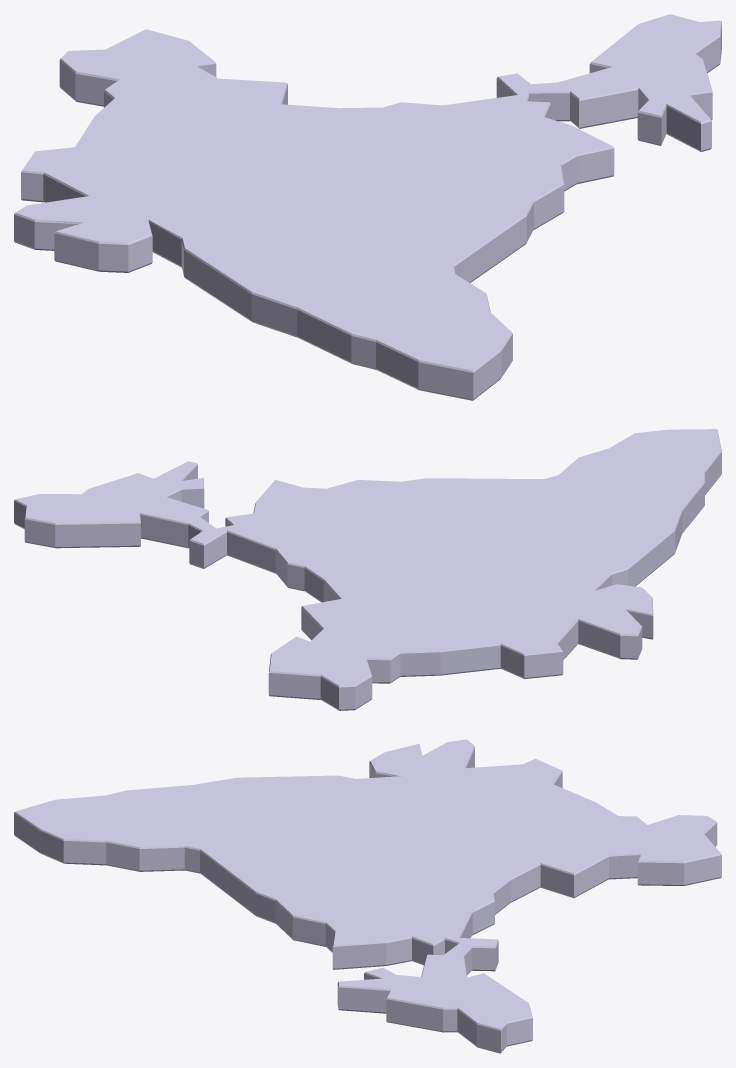
Rendered from IND.glb.
The picture shows the model from 3 angles, top to bottom: view 1: azimuth 30°, elevation 25°; view 2: azimuth 150°, elevation 25°; view 3: azimuth 270°, elevation 25°; orthographic projection. The views are drawn at different scales.
Bounding box in the file's own units: 1.72 × 0.068 × 1.77.
